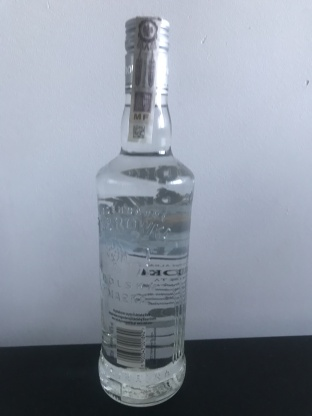nakretka: (122, 11, 171, 98)
